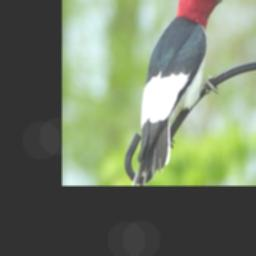Woodpecker: (130, 0, 242, 185)
